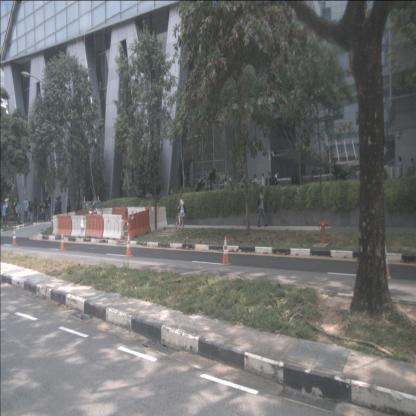human-pedestrian-adult: (257, 188, 268, 228), (179, 194, 186, 226), (12, 202, 21, 225), (396, 156, 402, 187), (410, 158, 415, 192), (23, 198, 29, 225), (56, 197, 62, 224), (2, 201, 8, 227), (28, 198, 34, 224), (44, 196, 50, 221), (16, 200, 22, 225), (32, 198, 38, 223), (38, 201, 44, 222), (57, 196, 62, 221), (40, 202, 46, 222), (53, 198, 58, 218), (47, 200, 51, 222), (275, 170, 279, 191), (66, 198, 70, 219), (261, 173, 265, 192), (268, 171, 271, 191), (254, 174, 257, 191), (224, 177, 227, 193), (221, 179, 224, 193)
movable_object-barrier: (127, 210, 151, 239), (102, 214, 126, 240), (51, 212, 76, 236), (149, 206, 168, 232), (77, 209, 97, 231), (86, 214, 104, 238), (70, 214, 88, 237), (127, 206, 146, 226), (57, 215, 72, 236), (112, 207, 127, 227), (102, 208, 113, 226)
movable_object-trafficcone: (383, 241, 391, 280), (221, 236, 231, 266), (124, 232, 133, 257), (11, 227, 18, 246), (60, 232, 66, 250)
vehicle-bicycle: (174, 206, 184, 232)
